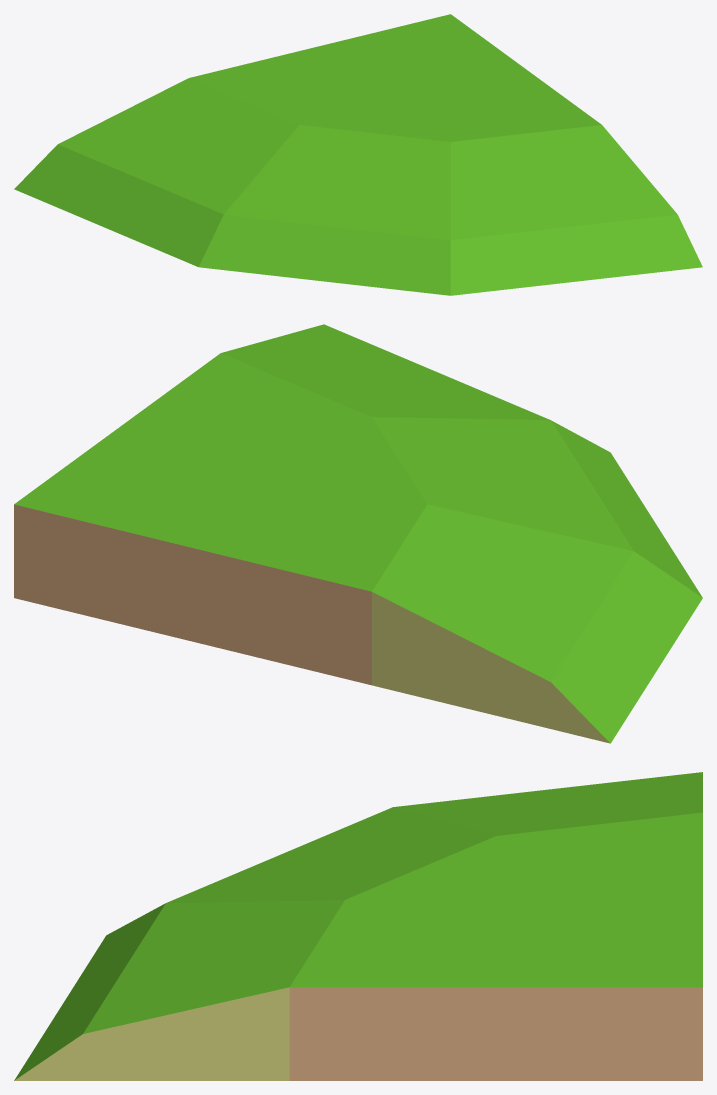
Rendered from Grass_Carpet_Curve_Outer_2x2.glb.
3 views of the same model, one above another, from view 1: azimuth 30°, elevation 25°; view 2: azimuth 150°, elevation 25°; view 3: azimuth 270°, elevation 25° (orthographic). The views are drawn at different scales.
Visible parts, largest first — view 1: Grass_Carpet_Curve_Outer_2x2; view 2: Grass_Carpet_Curve_Outer_2x2; view 3: Grass_Carpet_Curve_Outer_2x2.
Part boxes in pixels (box(x1,y1,x2,y2)): Grass_Carpet_Curve_Outer_2x2: box(14, 14, 702, 295); Grass_Carpet_Curve_Outer_2x2: box(14, 324, 702, 743); Grass_Carpet_Curve_Outer_2x2: box(14, 772, 702, 1080).
Size of the model in its own units: 167 by 25 by 167.
